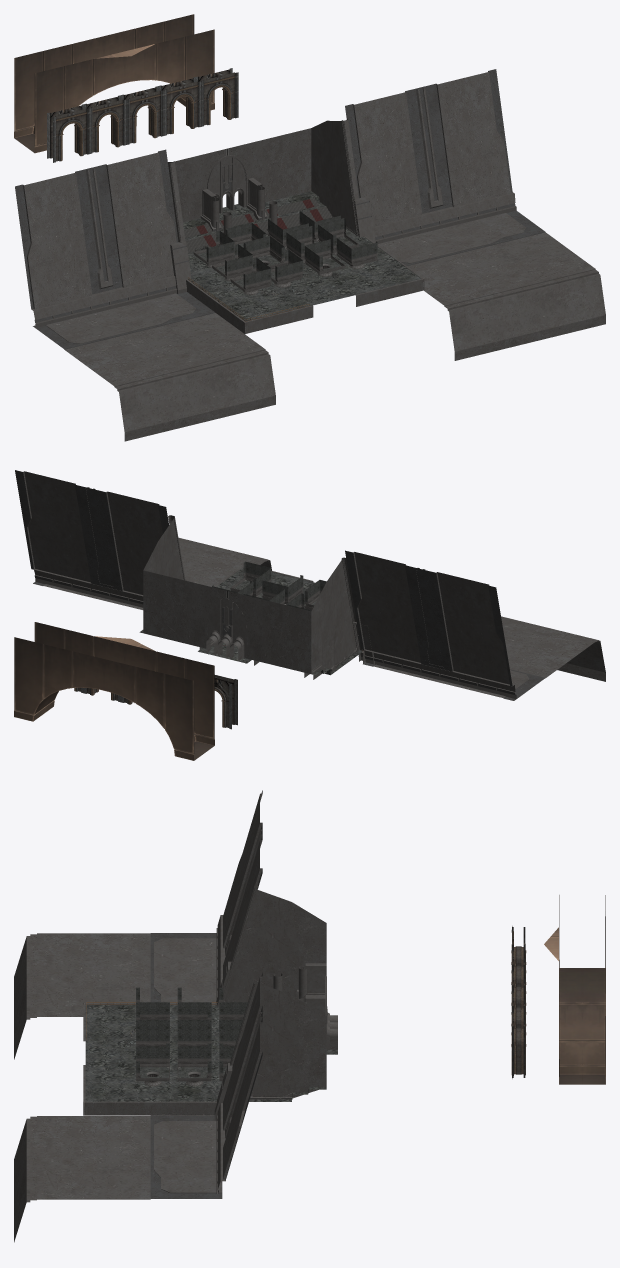
The model's file is env_cor_jeditempleentrance_raid_pre.glb.
3 views of the same model, one above another, from view 1: azimuth 30°, elevation 25°; view 2: azimuth 150°, elevation 25°; view 3: azimuth 270°, elevation 25° (orthographic). The views are drawn at different scales.
Visible parts, largest first — view 1: cor_jeditempleentrance_wall_side, cor_jeditempleentrance_wall_side (1), cor_jeditemple_arch_01, cor_jeditempleentrance_wall_01 (1), cor_jeditempleentrance_pillar_top (×10), cor_jeditempleentrance_raid_floor, cor_jeditempleentrance_wall_01, cor_jeditemple_arch_02 (4), cor_jeditempleentrance_curb, cor_jeditempleentrance_doorway, cor_jeditempleentrance_raid_floor_02, cor_jeditemple_arch_02 (+10 smaller); view 2: cor_jeditempleentrance_wall_side, cor_jeditempleentrance_wall_side (1), cor_jeditemple_arch_01, cor_jeditempleentrance_wall_01, cor_jeditempleentrance_wall_01 (1), cor_jeditempleentrance_doorway, cor_jeditempleentrance_pillar_top (×2), cor_jeditemple_arch_02 (4), cor_jeditempleentrance_raid_floor, cor_jeditempleentrance_raid_floor_02; view 3: cor_jeditempleentrance_wall_side (1), cor_jeditempleentrance_wall_side, cor_jeditempleentrance_raid_floor, cor_jeditempleentrance_wall_01, cor_jeditempleentrance_wall_01 (1), cor_jeditemple_arch_01, cor_jeditempleentrance_pillar_top (×5), cor_jeditempleentrance_curb (1), cor_jeditempleentrance_doorway_pillar_01 (1), cor_jeditemple_arch_02 (3).
Part boxes in pixels (x1,y1,x2,y2): cor_jeditempleentrance_wall_side: (15, 149, 275, 441); cor_jeditempleentrance_wall_side (1): (345, 69, 605, 360); cor_jeditemple_arch_01: (14, 14, 214, 153); cor_jeditempleentrance_wall_01 (1): (227, 118, 358, 236); cor_jeditempleentrance_pillar_top (×10): (193, 218, 377, 292); cor_jeditempleentrance_raid_floor: (189, 236, 420, 320); cor_jeditempleentrance_wall_01: (168, 148, 227, 242); cor_jeditemple_arch_02 (4): (47, 104, 90, 162); cor_jeditempleentrance_curb: (186, 279, 313, 333); cor_jeditempleentrance_doorway: (207, 155, 248, 213); cor_jeditempleentrance_raid_floor_02: (183, 191, 356, 276); cor_jeditemple_arch_02: (121, 86, 164, 144); cor_jeditempleentrance_wall_side: (345, 550, 605, 700); cor_jeditempleentrance_wall_side (1): (15, 470, 271, 609); cor_jeditemple_arch_01: (14, 622, 214, 760); cor_jeditempleentrance_wall_01: (227, 557, 358, 674); cor_jeditempleentrance_wall_01 (1): (143, 515, 227, 648); cor_jeditempleentrance_doorway: (206, 597, 246, 660); cor_jeditempleentrance_pillar_top (×2): (230, 561, 303, 603); cor_jeditemple_arch_02 (4): (214, 675, 237, 729); cor_jeditempleentrance_raid_floor: (216, 567, 362, 652); cor_jeditempleentrance_raid_floor_02: (139, 630, 360, 675); cor_jeditempleentrance_wall_side (1): (14, 972, 262, 1242); cor_jeditempleentrance_wall_side: (14, 790, 262, 1059); cor_jeditempleentrance_raid_floor: (85, 1005, 222, 1101); cor_jeditempleentrance_wall_01: (223, 885, 326, 1002); cor_jeditempleentrance_wall_01 (1): (230, 981, 326, 1099); cor_jeditemple_arch_01: (544, 895, 605, 1084); cor_jeditempleentrance_pillar_top (×5): (136, 987, 211, 1081); cor_jeditempleentrance_curb (1): (83, 1065, 216, 1115); cor_jeditempleentrance_doorway_pillar_01 (1): (297, 963, 326, 998); cor_jeditemple_arch_02 (3): (511, 1008, 526, 1078).
Bounding box in the file's own units: 272 × 94.42 × 256.
Materials: 15 (15 with a texture image).
